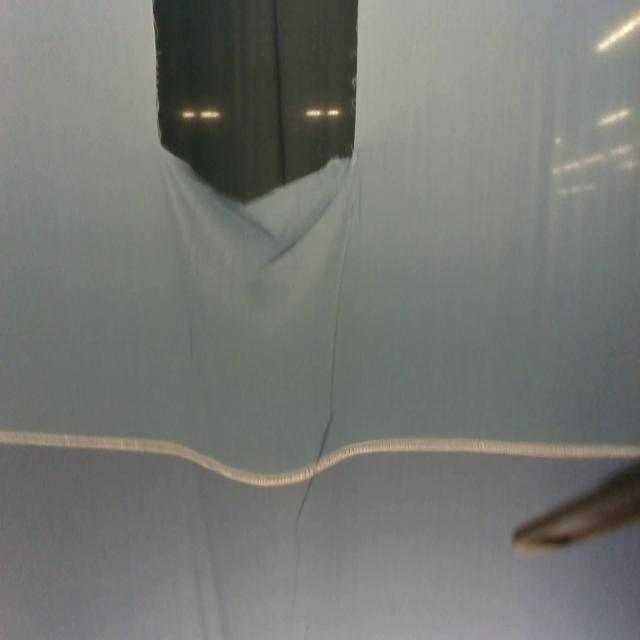crease: (328, 206, 356, 411), (267, 194, 341, 267), (296, 413, 338, 526)
hole: (152, 0, 361, 206)
